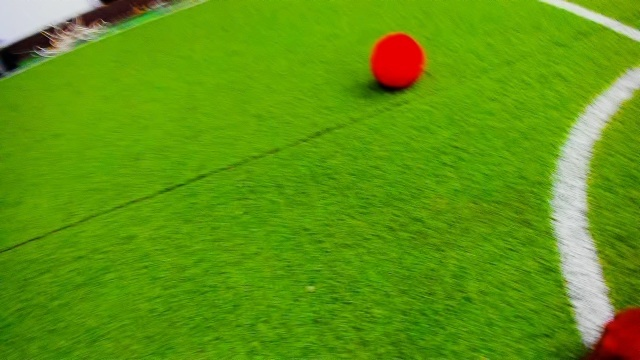ball: (361, 23, 429, 97)
